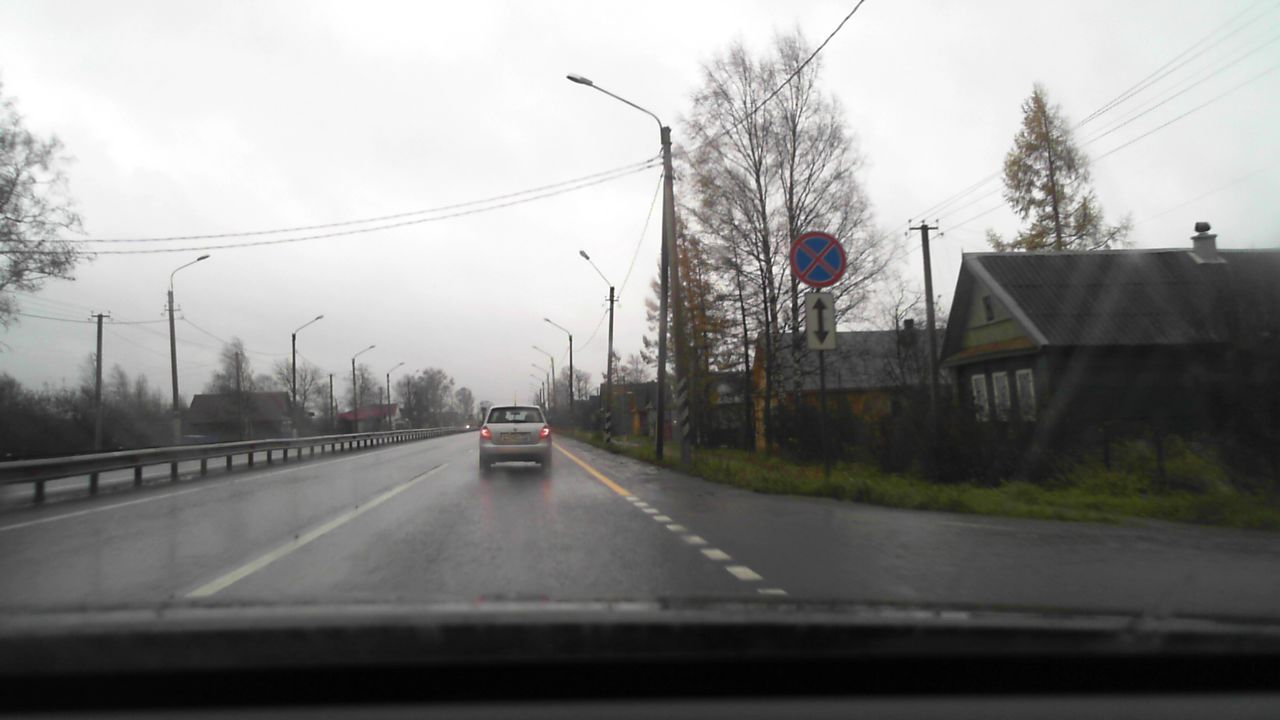No Parking: (789, 231, 846, 288)
